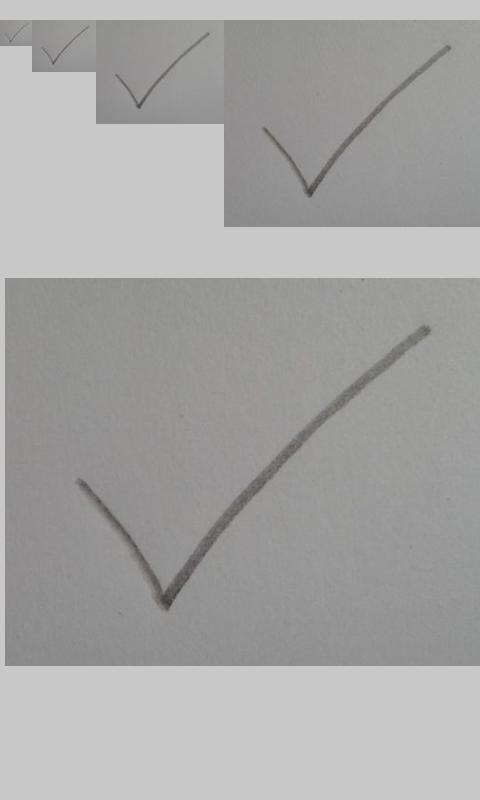check_box: (78, 328, 429, 608), (263, 45, 450, 197), (115, 33, 210, 109), (41, 27, 88, 65), (6, 24, 27, 43)
